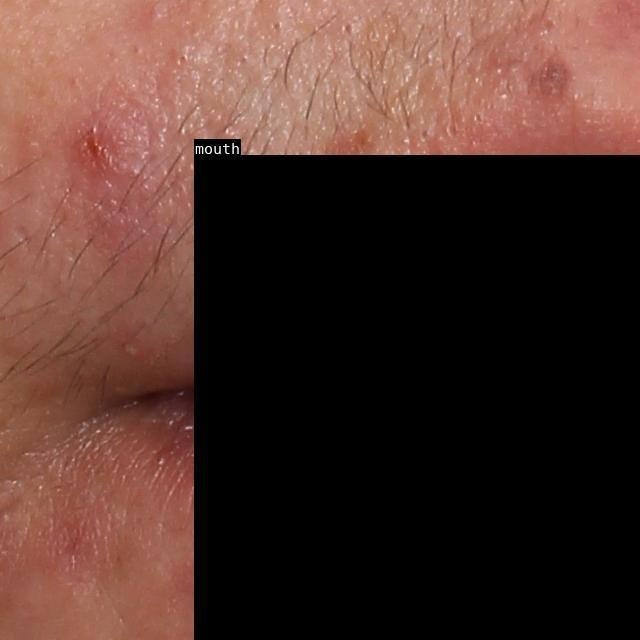comedo: (171, 45, 193, 68), (268, 18, 286, 35), (341, 19, 358, 37)
papule: (68, 108, 158, 202)
